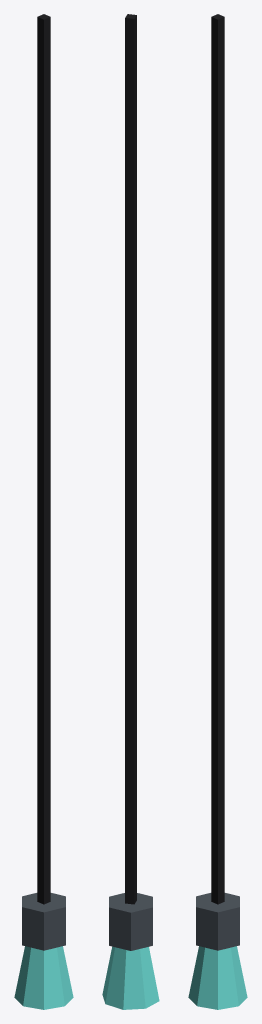
File: GL_BareBulb_01.glb
3 views of the same model, side by side, from view 1: azimuth 90°, elevation 25°; view 2: azimuth 210°, elevation 25°; view 3: azimuth 270°, elevation 25° (orthographic).
Visible parts, largest first — view 1: GL_BareBulb_01; view 2: GL_BareBulb_01; view 3: GL_BareBulb_01.
Part boxes in pixels (left/top/right/bottom): GL_BareBulb_01: left=14, top=14, right=73, bottom=1009; GL_BareBulb_01: left=102, top=14, right=159, bottom=1009; GL_BareBulb_01: left=188, top=14, right=247, bottom=1009.
Size of the model in its own units: 0.07 by 1.28 by 0.07.
1 material, 1 textured.
